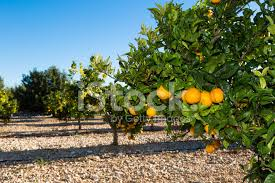orange: (185, 85, 201, 105), (154, 83, 171, 101), (209, 85, 224, 105), (198, 89, 211, 109)
